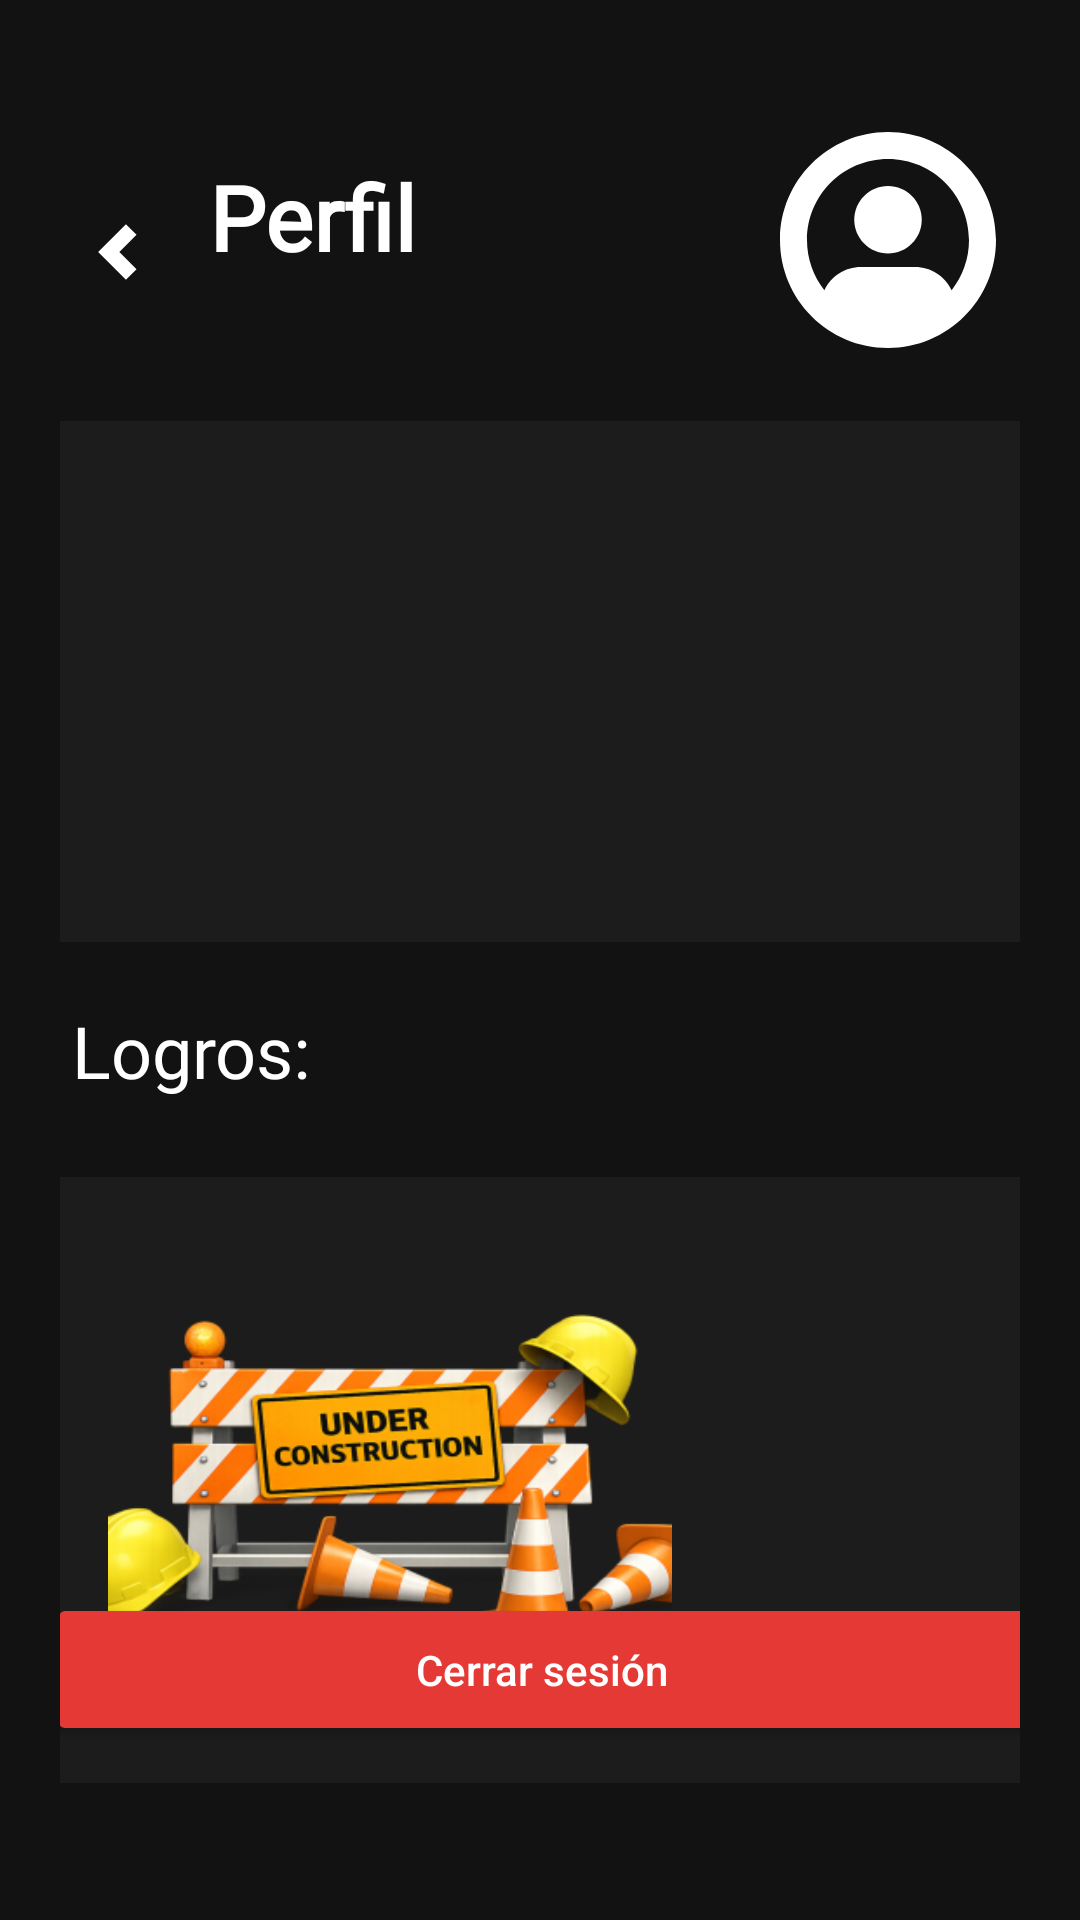

Icons on this 1080px x 1920px Android screen, each with its box as detection(x1, y1, x2, y2):
Volver atrás: detection(98, 224, 137, 280)
